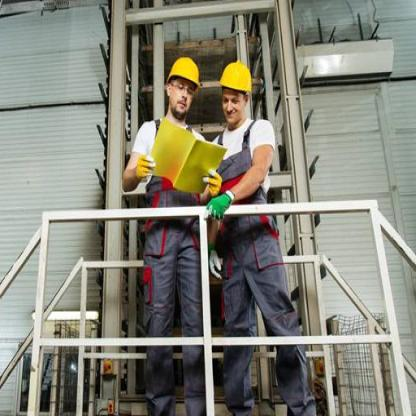bee: (214, 56, 257, 127), (162, 50, 204, 114)
